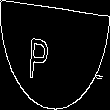P_N: (44, 28, 66, 82)
